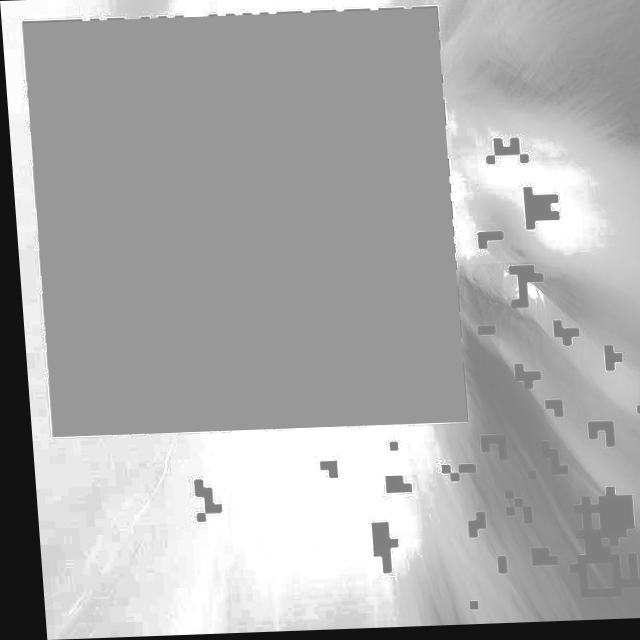qr_code: (22, 10, 460, 436)
